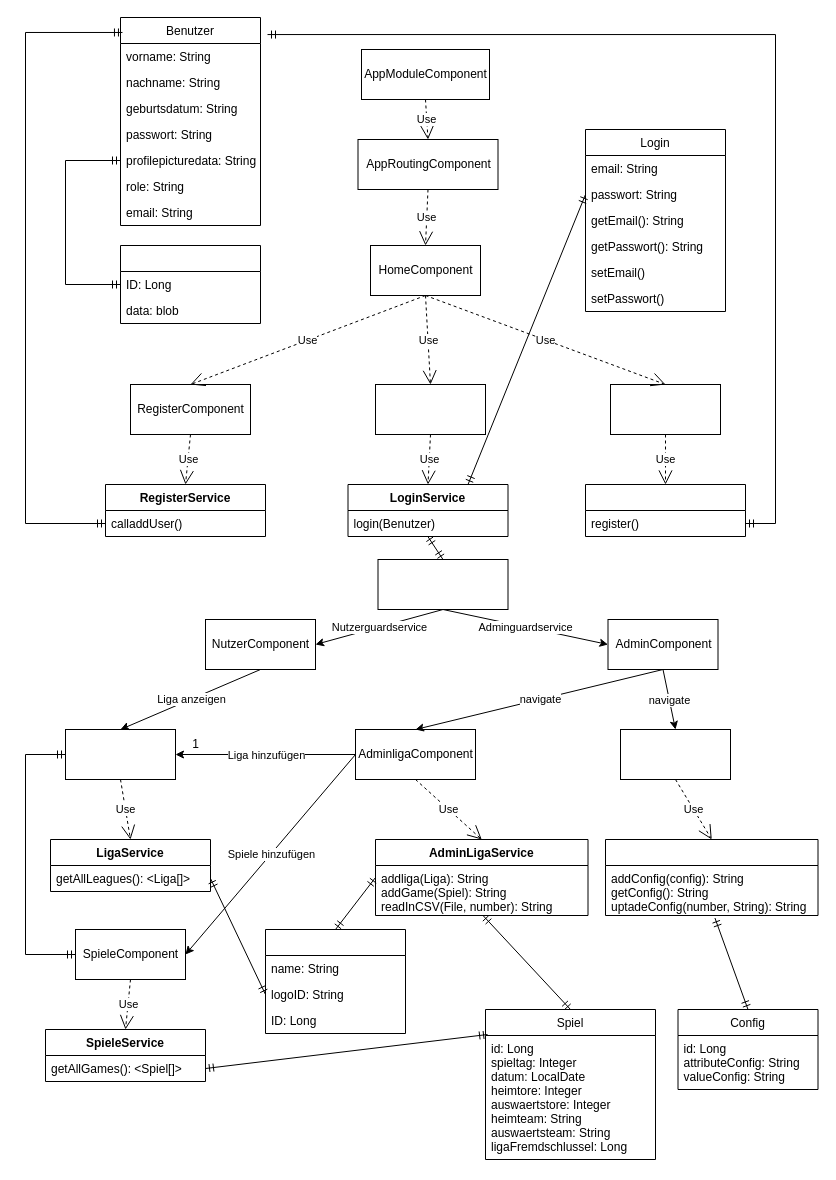
This 836x1180 diagram has some shape labels left out. The box of each missing label's shape, as (x1, y1, x2, y2) in pixels:
AdminRegister Component: (610, 384, 720, 434)
AdminRegisterService: (584, 484, 746, 536)
AuthguardComponent: (377, 558, 508, 610)
ConfigComponent: (620, 728, 730, 780)
ConfigService: (604, 838, 818, 916)
Liga: (264, 928, 406, 1034)
LigaComponent: (64, 728, 176, 780)
LoginComponent: (374, 384, 486, 434)
Profilbild: (120, 244, 260, 324)
